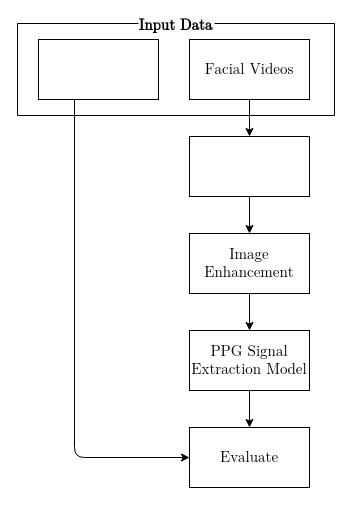
Image size: 352x505. Some labels were removed from this diagram. The shapes that lost their labels are listed below. From the top down, each one's box as (x1, y1, x2, y2) in pixels, then its label:
(38, 38, 158, 100): True PPG Signal
(188, 136, 310, 196): Video Preprocessing
